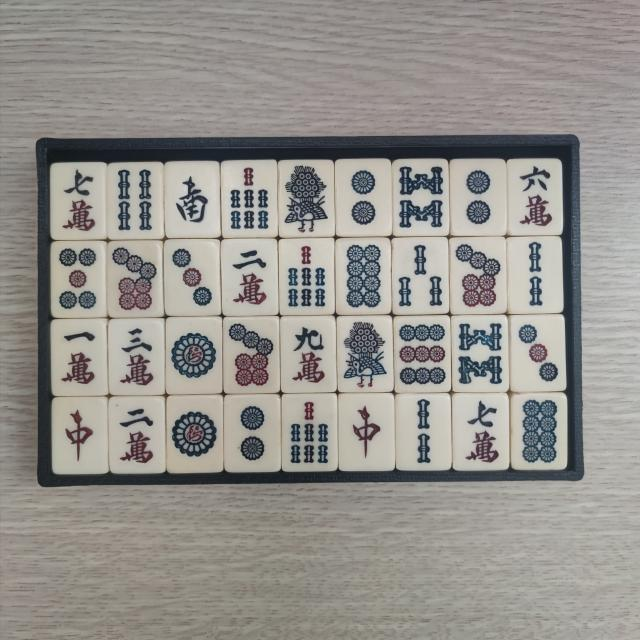hdr: (344, 399, 387, 467), (58, 403, 102, 469)
hws: (170, 165, 214, 232)
sb1: (282, 164, 330, 236), (342, 320, 389, 390)
sb2: (512, 240, 558, 310), (402, 396, 446, 466)
sb3: (397, 240, 445, 310)
sb4: (113, 165, 159, 233)
sb7: (226, 165, 272, 234), (284, 244, 330, 312), (287, 399, 333, 467)
sb8: (455, 320, 503, 390), (398, 162, 446, 232)
sc1: (57, 324, 102, 390)
sc2: (226, 243, 272, 310), (114, 402, 160, 467)
sc3: (115, 323, 161, 390)
sc6: (514, 162, 556, 230)
sc7: (56, 166, 101, 235), (461, 398, 504, 466)
sc9: (286, 321, 332, 389)
sd1: (168, 323, 218, 390), (170, 400, 218, 468)
sd2: (341, 164, 386, 232), (457, 163, 501, 230), (230, 403, 274, 469)
sd3: (170, 244, 218, 312), (516, 319, 562, 388)
sd5: (54, 245, 100, 312)
sd7: (228, 322, 277, 390), (456, 242, 504, 310), (112, 247, 160, 314)
sd8: (341, 242, 386, 310), (516, 398, 560, 466)
sd9: (398, 319, 448, 388)
